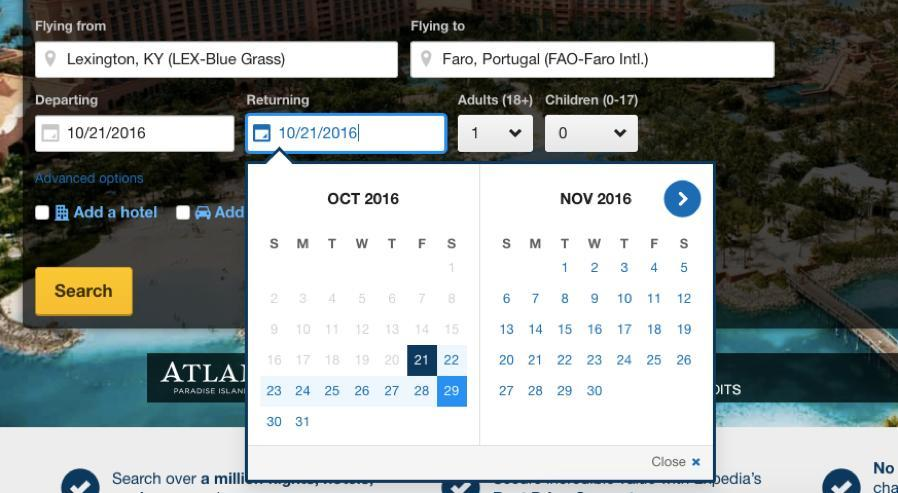button: (35, 267, 134, 316)
checkbox: (33, 205, 53, 223), (176, 205, 193, 222)
dropdown: (546, 116, 639, 153), (459, 116, 535, 154)
input: (411, 42, 775, 80), (37, 43, 400, 79), (246, 115, 448, 155), (37, 116, 235, 153)
label: (32, 170, 148, 189), (73, 203, 160, 222), (547, 93, 638, 110), (457, 92, 536, 110), (247, 93, 314, 112), (35, 19, 108, 36), (34, 95, 101, 111), (412, 20, 469, 37)
